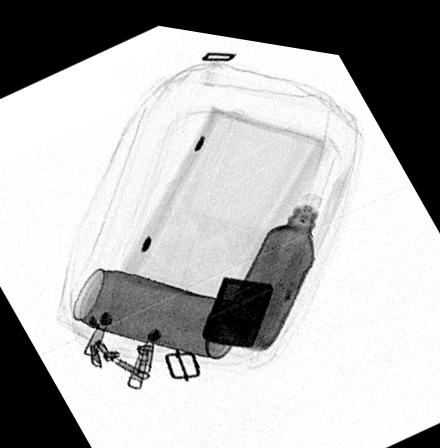Lighter: (200, 269, 273, 340)
